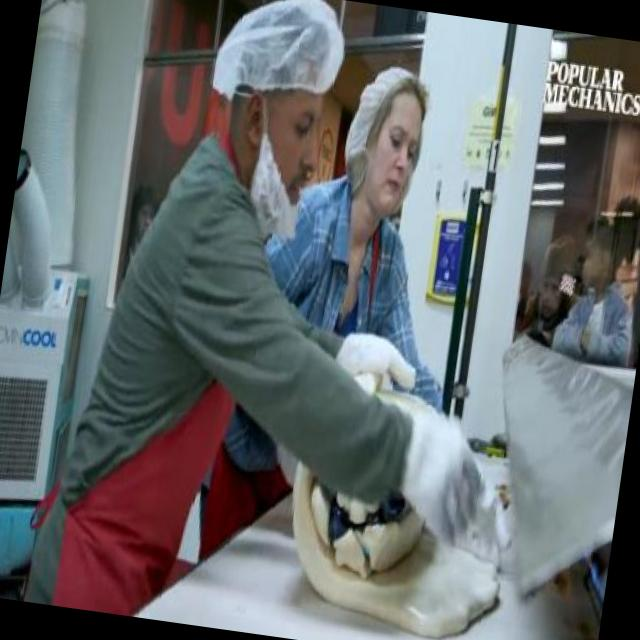hairnet: (211, 0, 348, 102), (348, 58, 431, 140)
